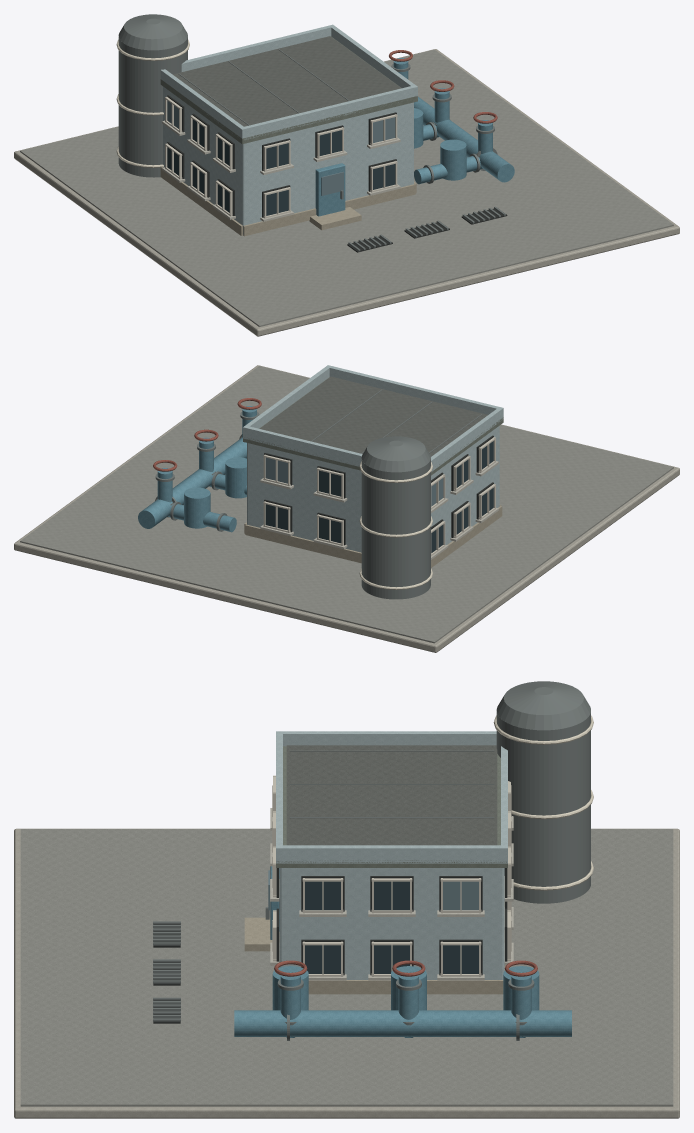
The model's file is EXP_WATER_PUMP_URBAN.glb.
3 renders of one model, top to bottom at view 1: azimuth 30°, elevation 25°; view 2: azimuth 150°, elevation 25°; view 3: azimuth 270°, elevation 25°, orthographic. The views are drawn at different scales.
Visible parts, largest first — view 1: EXP_WATER_PUMP_URBAN_Visual; view 2: EXP_WATER_PUMP_URBAN_Visual; view 3: EXP_WATER_PUMP_URBAN_Visual.
Part boxes in pixels (bbox=[...]): EXP_WATER_PUMP_URBAN_Visual: bbox=[14, 14, 679, 336]; EXP_WATER_PUMP_URBAN_Visual: bbox=[14, 365, 679, 652]; EXP_WATER_PUMP_URBAN_Visual: bbox=[14, 681, 679, 1118].
Size of what is drawn, in the model's own units: 5.92 by 2.03 by 5.92.
15 materials, 10 textured.
